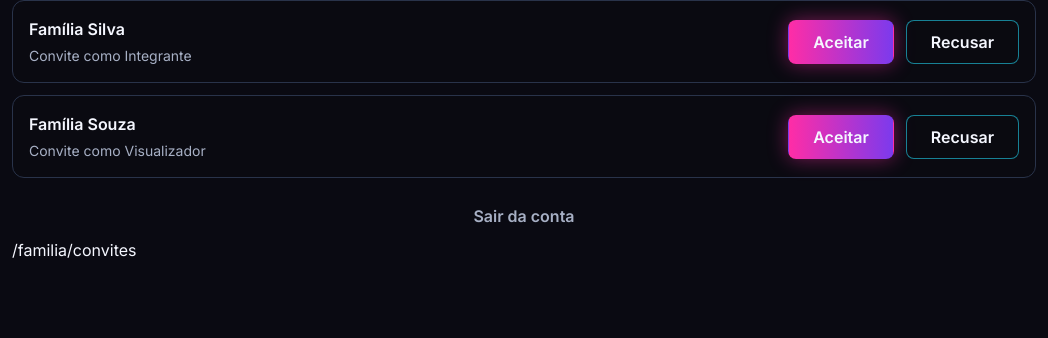
Test: PendingInvitesList (FAM-005, AUTH-005) › erro do servidor aparece em alerta e mantem a lista
Click the button with aria-label "aceitar convite de família silva" at (841, 42), box [788,20,894,64]
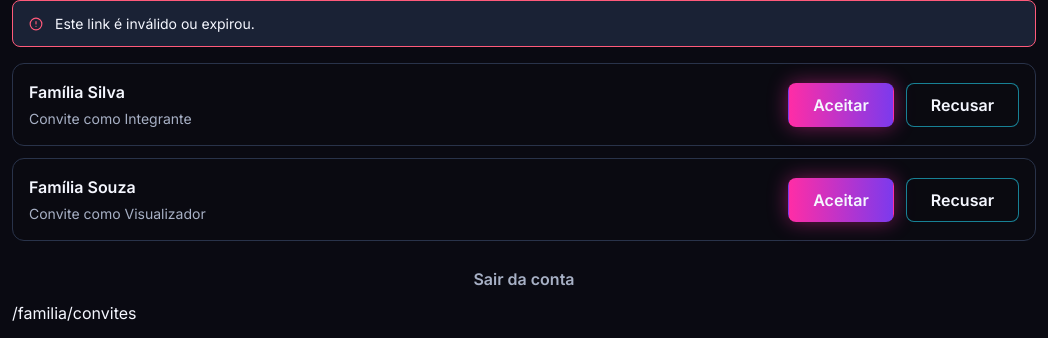
Expected: the text "Família Silva" is shown, [29,82,125,102]
Now the message reads "Este link é inválido ou expirou.", box [55,15,255,32]
